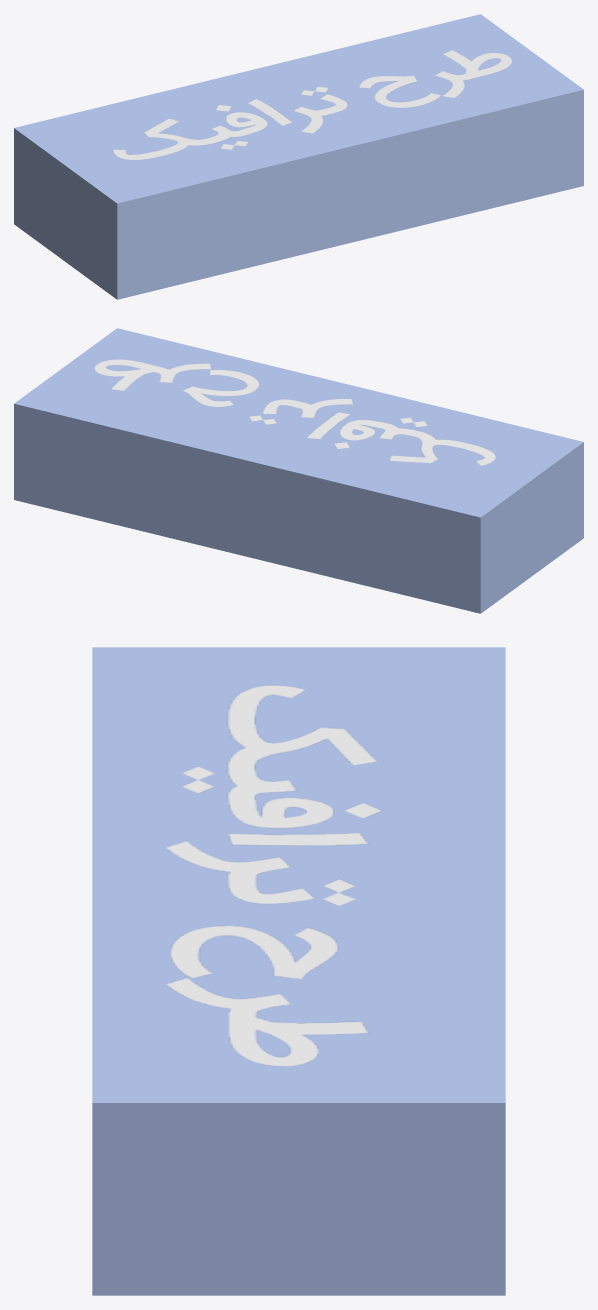
File: tarh.glb
3 renders of one model, top to bottom at view 1: azimuth 30°, elevation 25°; view 2: azimuth 150°, elevation 25°; view 3: azimuth 270°, elevation 25°, orthographic. The views are drawn at different scales.
Parts seen in each view (by area): view 1: Cube, tarh_; view 2: Cube, tarh_; view 3: Cube, tarh_.
Part boxes in pixels (<box>): Cube: <box>14,14,583,299</box>; tarh_: <box>113,50,512,159</box>; Cube: <box>14,328,583,613</box>; tarh_: <box>94,359,495,465</box>; Cube: <box>92,647,505,1295</box>; tarh_: <box>165,685,381,1066</box>.
Bounding box in the file's own units: 2 × 0.4181 × 0.7664.
Materials: 2 (2 with a texture image).
